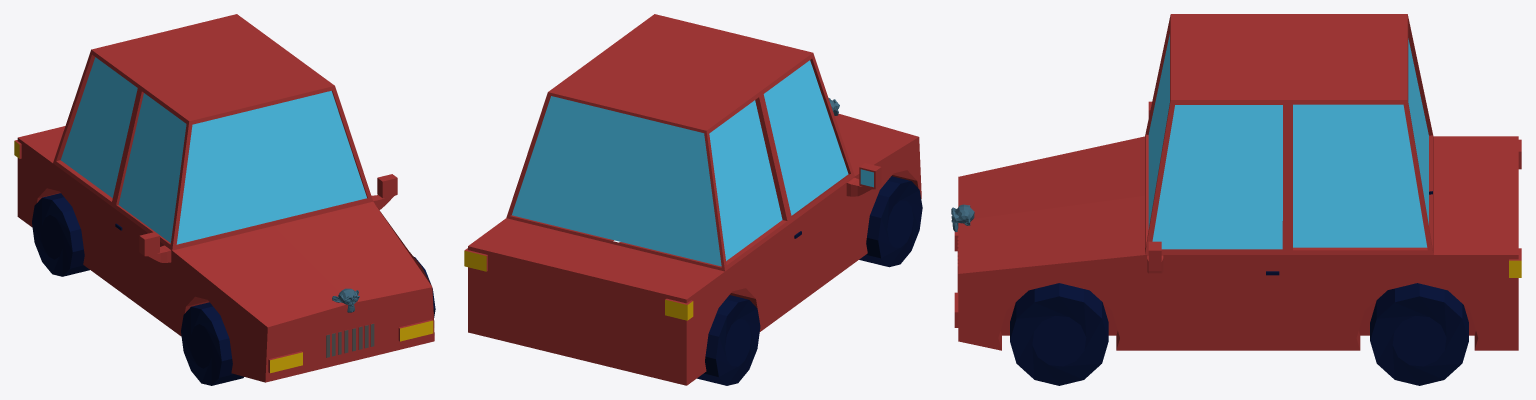
File: car.glb
The picture shows the model from 3 angles, left to right: view 1: azimuth 30°, elevation 25°; view 2: azimuth 150°, elevation 25°; view 3: azimuth 270°, elevation 25°; orthographic projection. The views are drawn at different scales.
Parts seen in each view (by area): view 1: Cube.001; view 2: Cube.001; view 3: Cube.001.
Boxes of the visible parts, x1,y1,x2,y2 form: Cube.001: (14, 14, 435, 385); Cube.001: (464, 14, 922, 385); Cube.001: (951, 14, 1521, 385).
Size of the model in its own units: 2.38 by 1.98 by 3.85.
